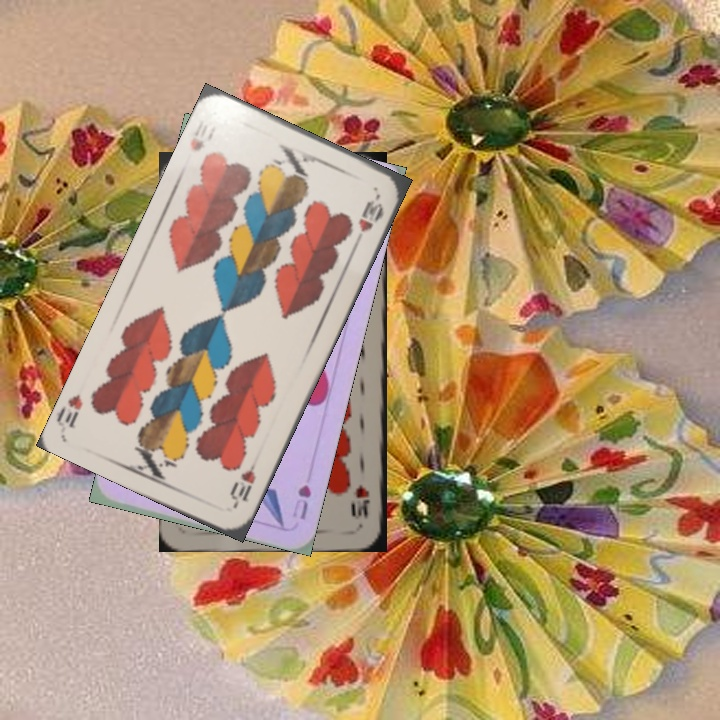H10: (226, 454, 261, 510), (186, 121, 219, 154), (351, 481, 372, 522)
HU: (288, 480, 314, 522)
